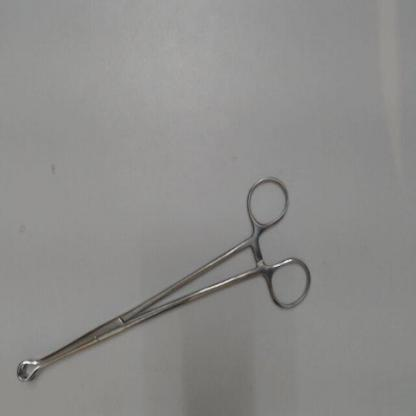8 Babcock Tissue Forceps: (11, 168, 321, 390)
